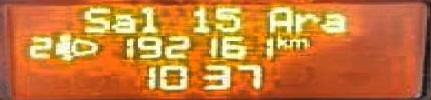0: (155, 63, 184, 89)
1: (189, 4, 207, 32), (142, 63, 155, 92), (204, 33, 217, 58), (260, 34, 273, 59), (122, 34, 133, 58)
2: (26, 33, 51, 58), (164, 34, 189, 57)
3: (198, 62, 229, 91)
5: (213, 4, 242, 32)
6: (217, 34, 244, 58)
7: (235, 61, 262, 90)
9: (135, 33, 162, 58)
X: (318, 9, 347, 33), (264, 7, 289, 32), (82, 5, 106, 31), (138, 5, 160, 31), (111, 12, 133, 32), (291, 12, 313, 31), (287, 37, 307, 47), (273, 33, 286, 47)
